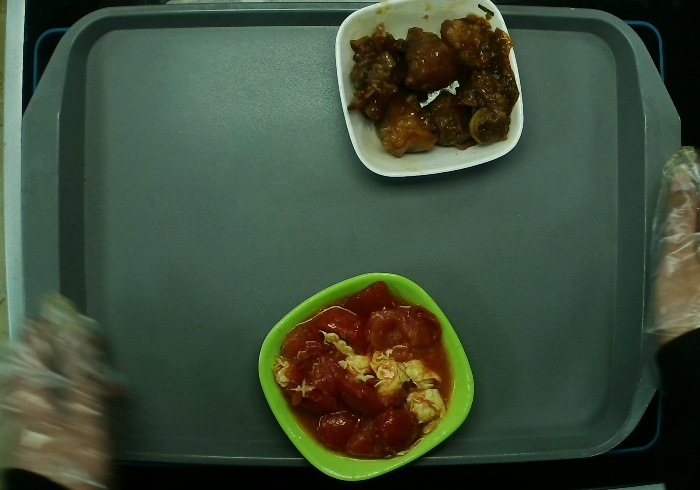SHKJ-Bai_Se_Xiao_Fang_Die: (335, 1, 529, 181)
SHKJ-Lv_Se_Cai_Die: (256, 271, 476, 482)
